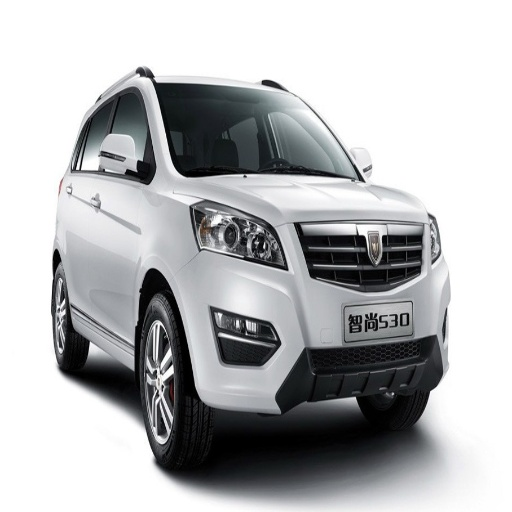front_bumper: (173, 220, 450, 412)
front_right_door: (92, 79, 158, 338)
front_right_light: (190, 201, 288, 268)
hood: (183, 177, 427, 223)
